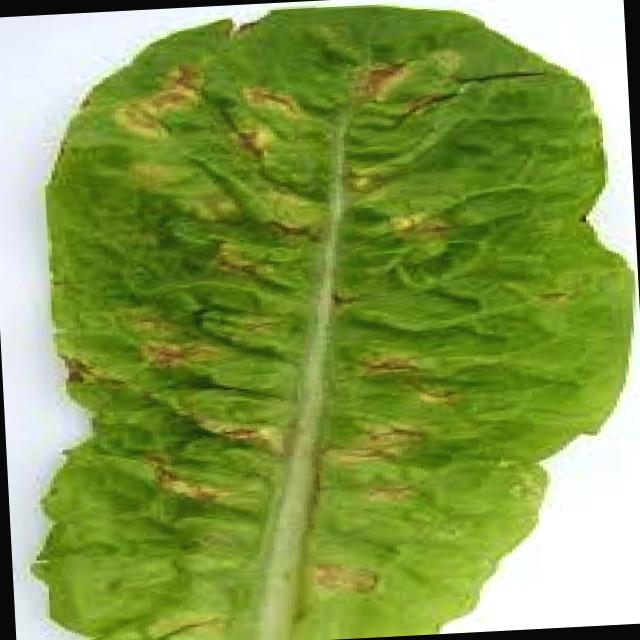Downy_mildew: (143, 32, 464, 313)
